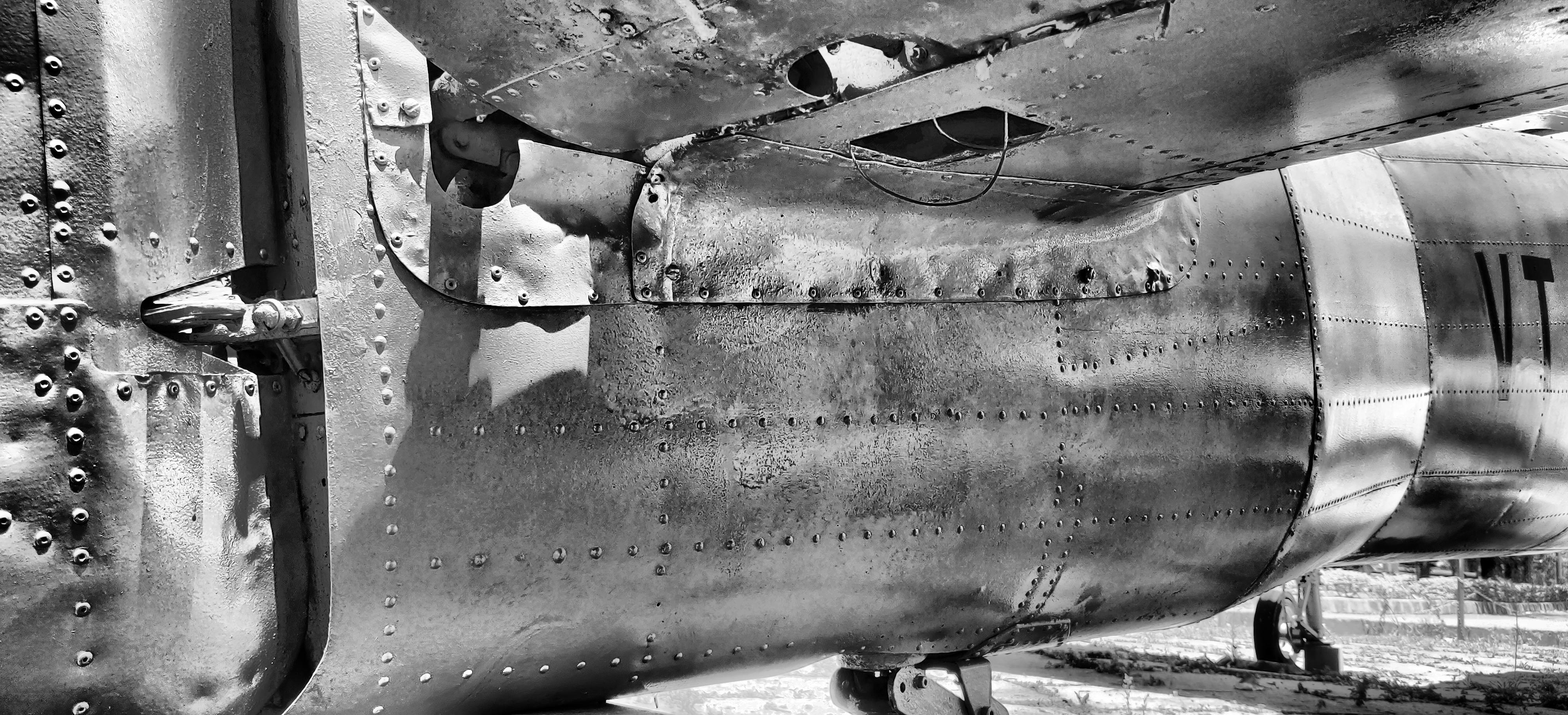dent: (512, 187, 624, 245), (1145, 260, 1181, 293), (1494, 500, 1515, 524)
missing-head: (648, 193, 659, 204), (879, 267, 887, 278), (997, 269, 1003, 277), (655, 603, 662, 607), (940, 623, 945, 628), (1011, 614, 1016, 619), (944, 644, 948, 649), (1156, 269, 1160, 274), (931, 645, 934, 649), (881, 635, 884, 639), (955, 646, 958, 650)
